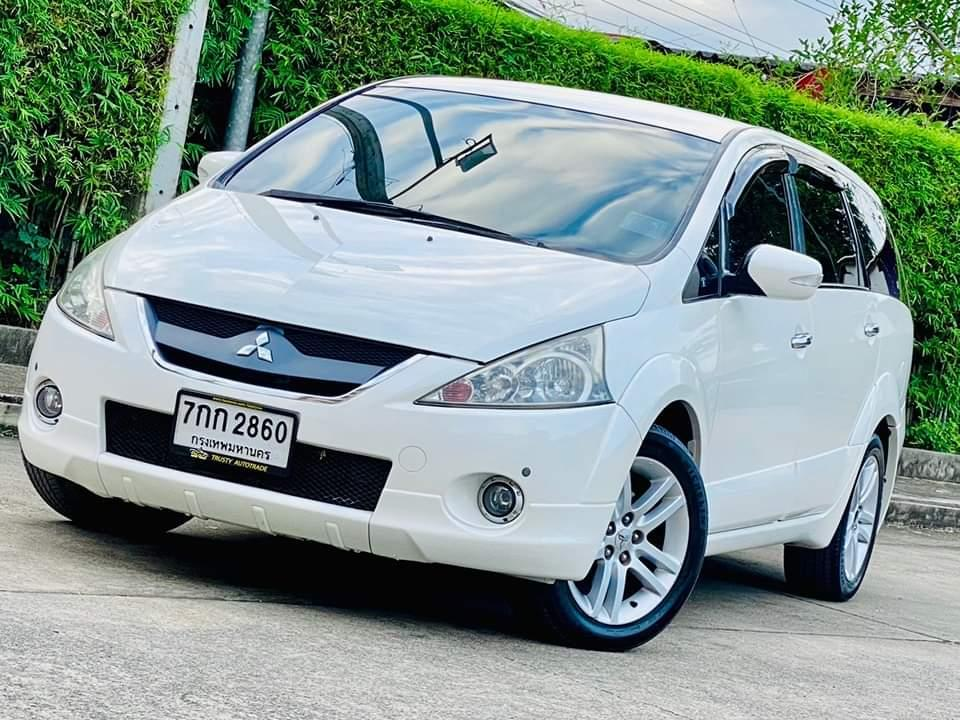license-plate: (169, 389, 293, 470)
